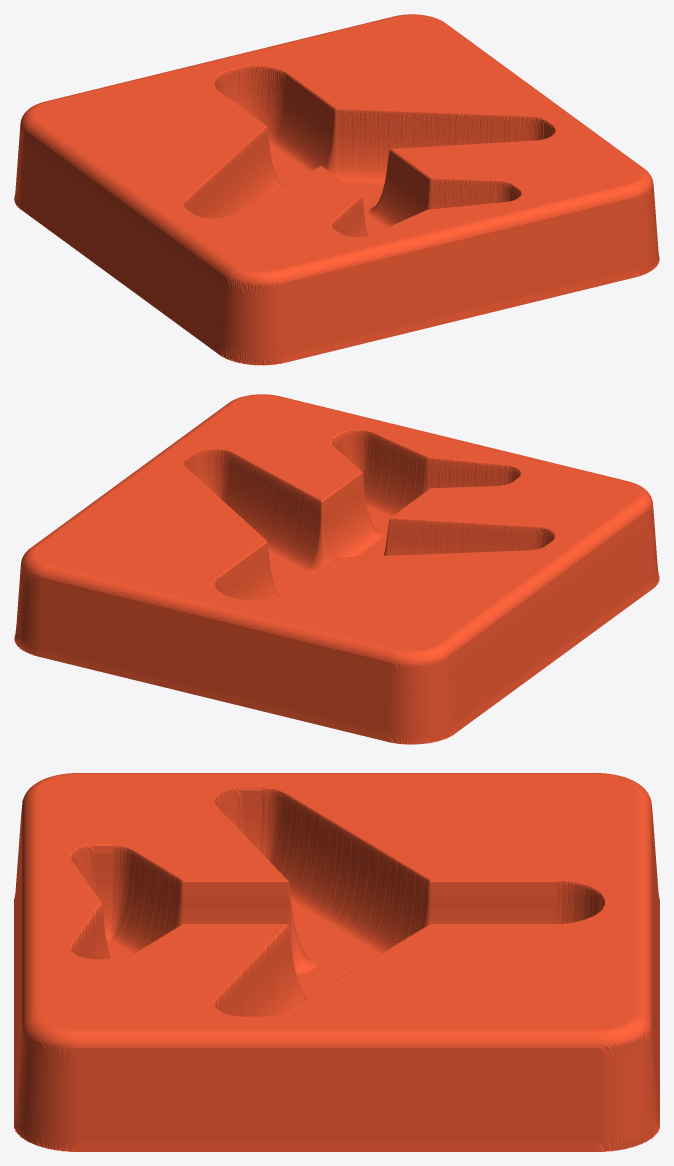
The model's file is mold.glb.
3 views of the same model, one above another, from view 1: azimuth 30°, elevation 25°; view 2: azimuth 150°, elevation 25°; view 3: azimuth 270°, elevation 25° (orthographic). The views are drawn at different scales.
Parts seen in each view (by area): view 1: geometry_0; view 2: geometry_0; view 3: geometry_0.
Boxes of the visible parts, x1,y1,x2,y2 form: geometry_0: [14, 14, 659, 365]; geometry_0: [14, 394, 659, 744]; geometry_0: [14, 773, 659, 1151].
Bounding box in the file's own units: 0.0924 × 0.0175 × 0.0914.
